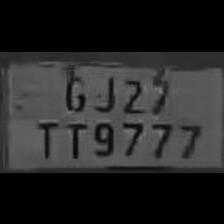2: (116, 69, 145, 114)
7: (145, 64, 172, 112), (144, 116, 174, 158), (172, 118, 202, 158), (118, 116, 144, 156)
9: (88, 116, 114, 156)
G: (60, 63, 88, 111)
J: (90, 68, 116, 110)
T: (31, 116, 61, 158), (60, 118, 86, 158)
